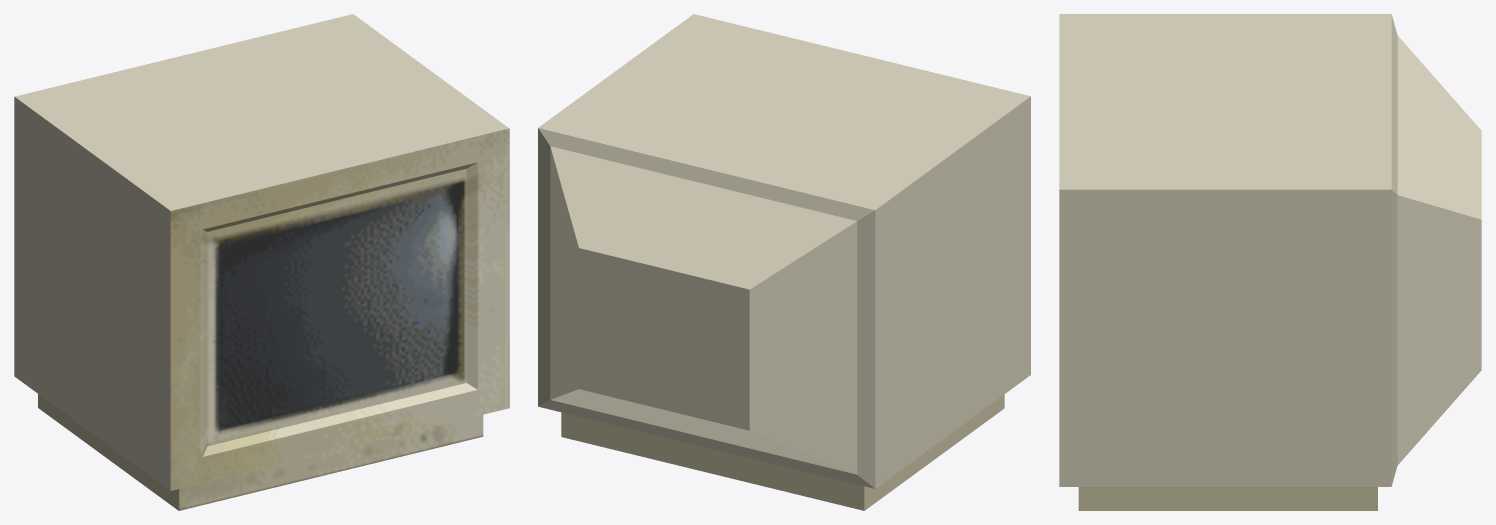
File: VintageMonitor_Props.glb
3 views of the same model, side by side, from view 1: azimuth 30°, elevation 25°; view 2: azimuth 150°, elevation 25°; view 3: azimuth 270°, elevation 25° (orthographic). The views are drawn at different scales.
Visible parts, largest first — view 1: Cube; view 2: Cube; view 3: Cube.
Part boxes in pixels (x1=…): Cube: x1=14, y1=14, x2=509, y2=510; Cube: x1=538, y1=14, x2=1030, y2=510; Cube: x1=1059, y1=14, x2=1481, y2=510.
Size of the model in its own units: 2.46 by 2.15 by 2.5.
2 materials, 2 textured.
